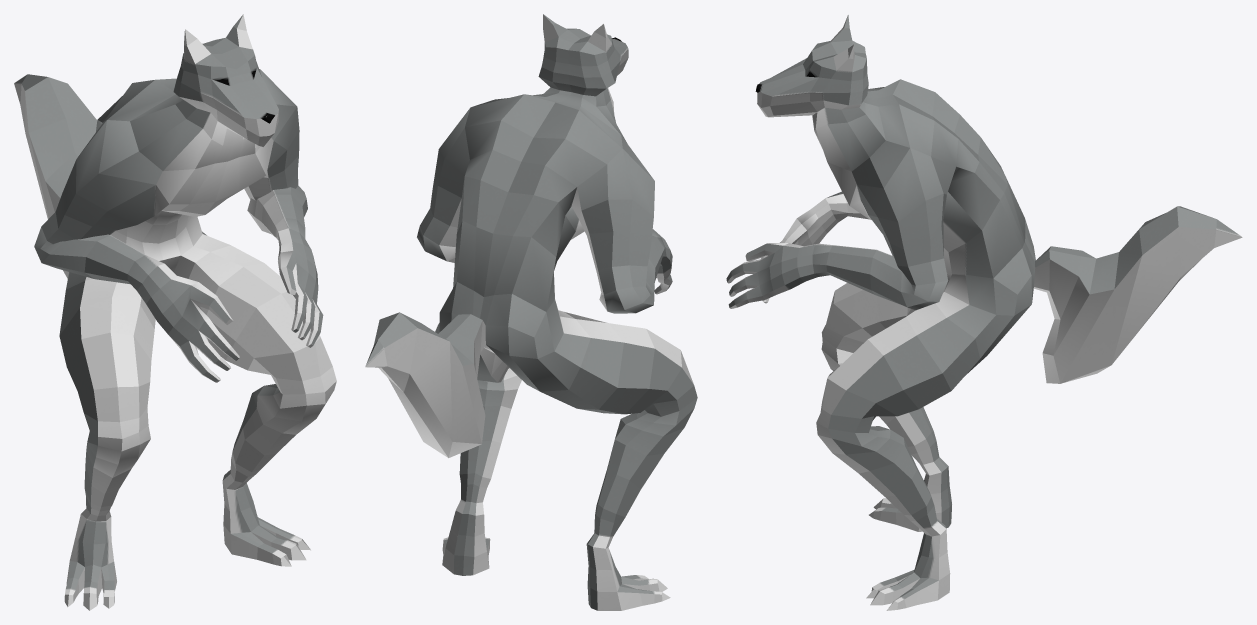
Rendered from WolfIdle_(134).obj.
3 renders of one model, left to right at view 1: azimuth 30°, elevation 25°; view 2: azimuth 150°, elevation 25°; view 3: azimuth 270°, elevation 25°, orthographic. The views are drawn at different scales.
Visible parts, largest first — view 1: Box001; view 2: Box001; view 3: Box001.
Boxes of the visible parts, left/top/right/bottom form: Box001: left=14, top=14, right=336, bottom=610; Box001: left=365, top=14, right=697, bottom=610; Box001: left=726, top=15, right=1242, bottom=610.
Size of the model in its own units: 60.94 by 131 by 115.
